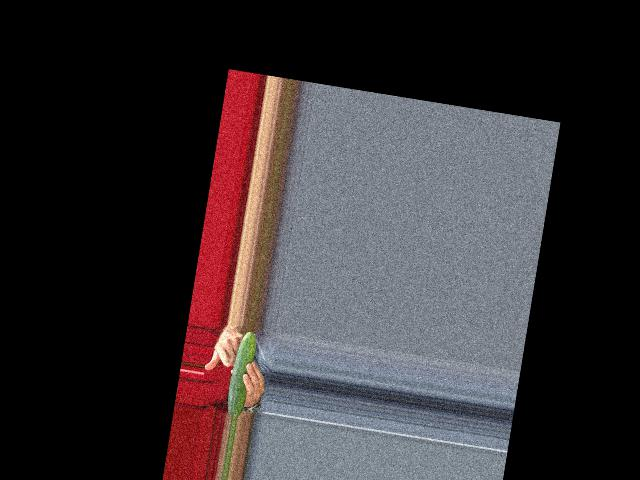cucumber: (224, 330, 258, 418)
